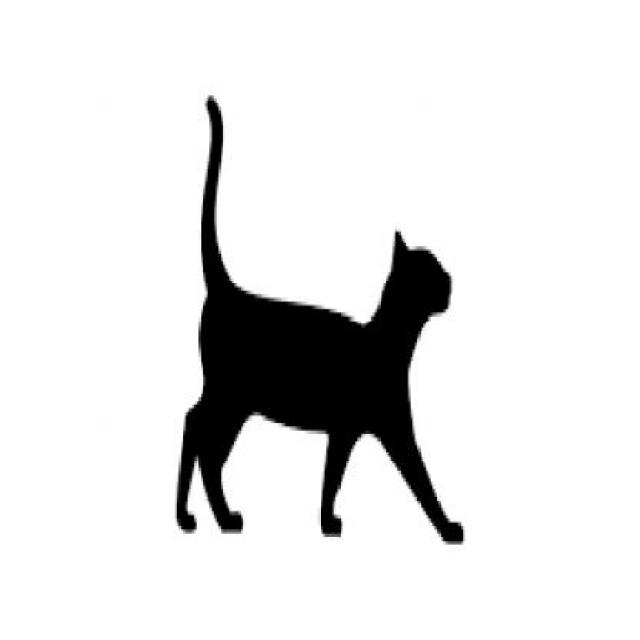animals: (158, 88, 492, 544)
